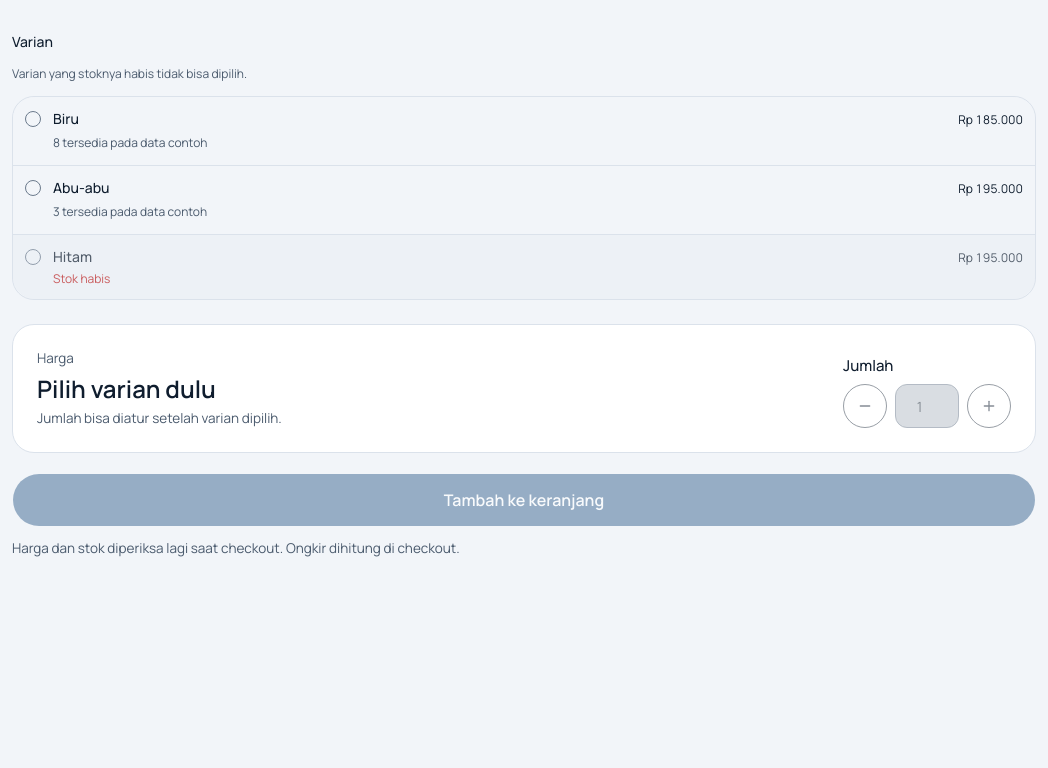
Test case: product selection preview › requires an available variant before preparing a cart intent
Expected: the button "Tambah ke keranjang" is disabled, top-left (12, 473), bottom-right (1036, 527)
Click the radio button named "Abu-abu" next to "Abu-abu" at x=33, y=188, box top-left (25, 180), bottom-right (41, 196)
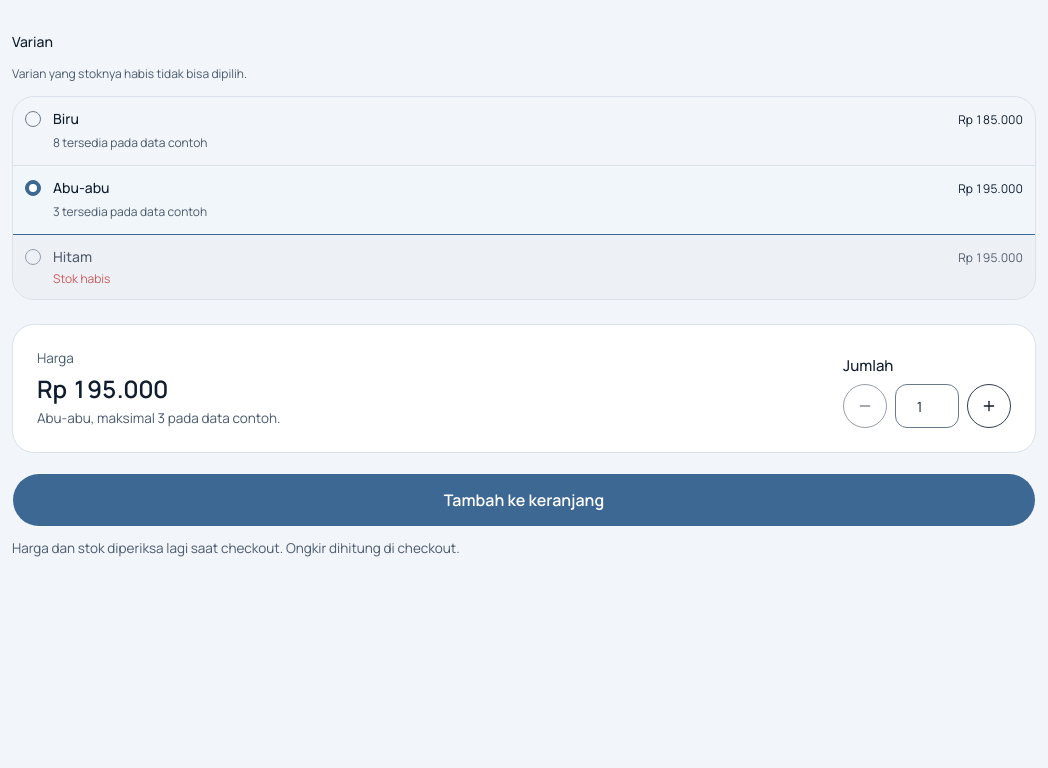
Expected: the button "Tambah ke keranjang" is enabled, top-left (12, 473), bottom-right (1036, 527)
Expected: the text "Rp 195.000" next to "Jumlah" is shown, top-left (37, 372), bottom-right (168, 405)
